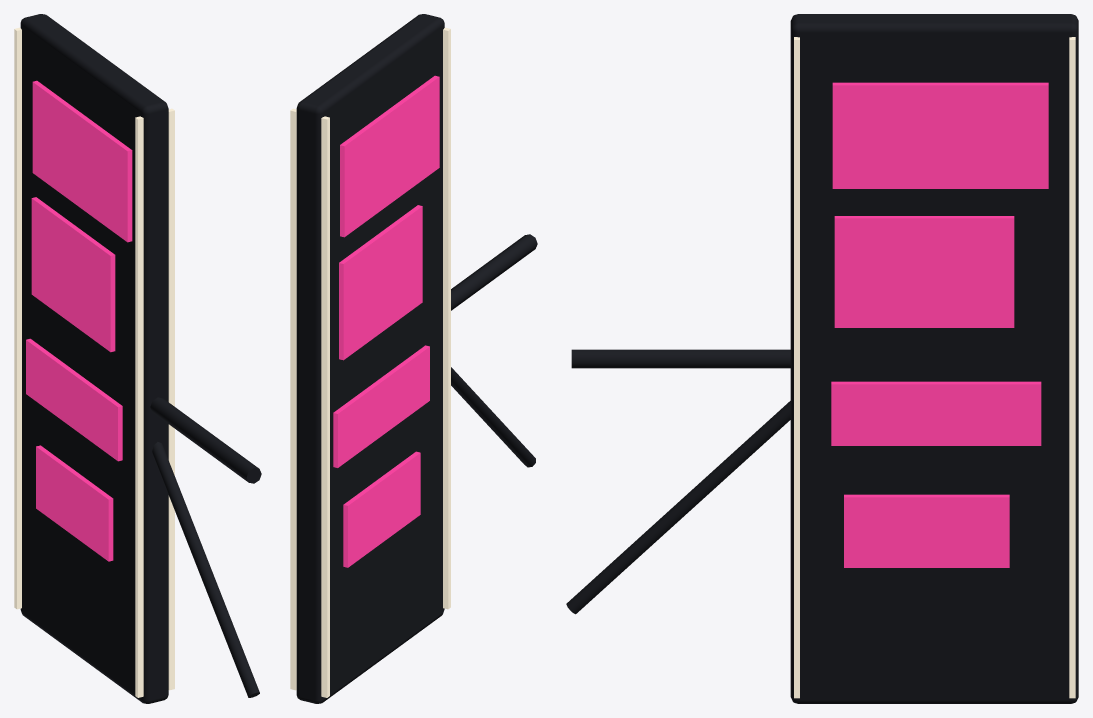
Rendered from neon_sign_c.glb.
3 renders of one model, left to right at view 1: azimuth 30°, elevation 25°; view 2: azimuth 150°, elevation 25°; view 3: azimuth 270°, elevation 25°, orthographic. The views are drawn at different scales.
Visible parts, largest first — view 1: NeonSign; view 2: NeonSign; view 3: NeonSign.
Boxes of the visible parts, box(x1,y1,x2,y2) form: NeonSign: box(14, 14, 261, 703); NeonSign: box(290, 14, 537, 703); NeonSign: box(566, 14, 1078, 703).
Bounding box in the file's own units: 0.194 × 3 × 2.05.
